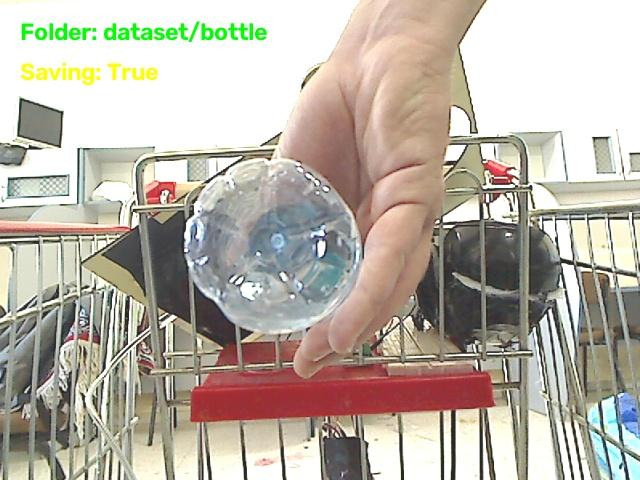can: (184, 160, 361, 333)
